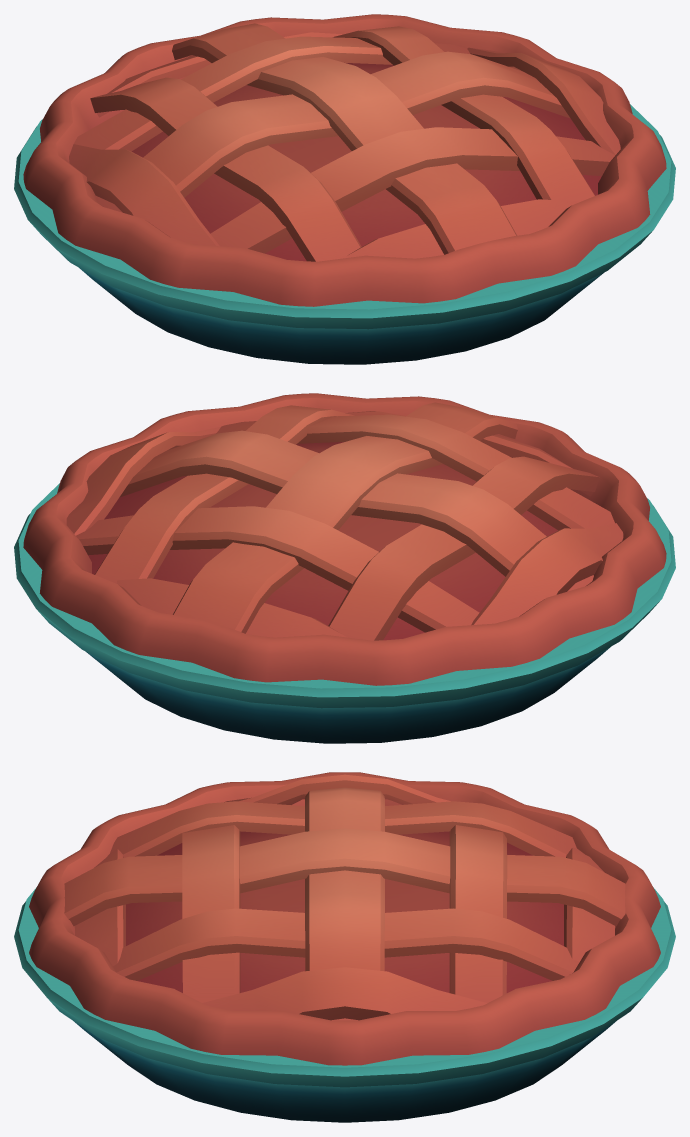
File: SM_Pie_V02.fbx
The picture shows the model from 3 angles, top to bottom: view 1: azimuth 30°, elevation 25°; view 2: azimuth 150°, elevation 25°; view 3: azimuth 270°, elevation 25°; orthographic projection.
Visible parts, largest first — view 1: SM_Pie_V02; view 2: SM_Pie_V02; view 3: SM_Pie_V02.
Boxes of the visible parts, <box> form: SM_Pie_V02: <box>14,14,675,364</box>; SM_Pie_V02: <box>14,393,675,743</box>; SM_Pie_V02: <box>14,772,675,1122</box>.
Bounding box in the file's own units: 41.56 × 12.57 × 41.56.
